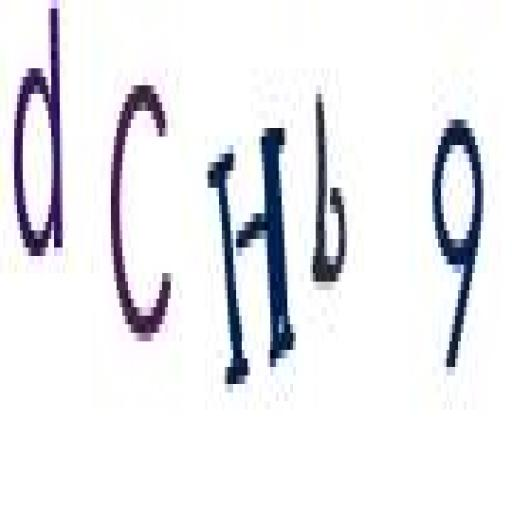9: (430, 102, 492, 384)
C: (104, 41, 177, 356)
H: (208, 110, 302, 397)
b: (309, 87, 351, 298)
d: (6, 0, 65, 265)
